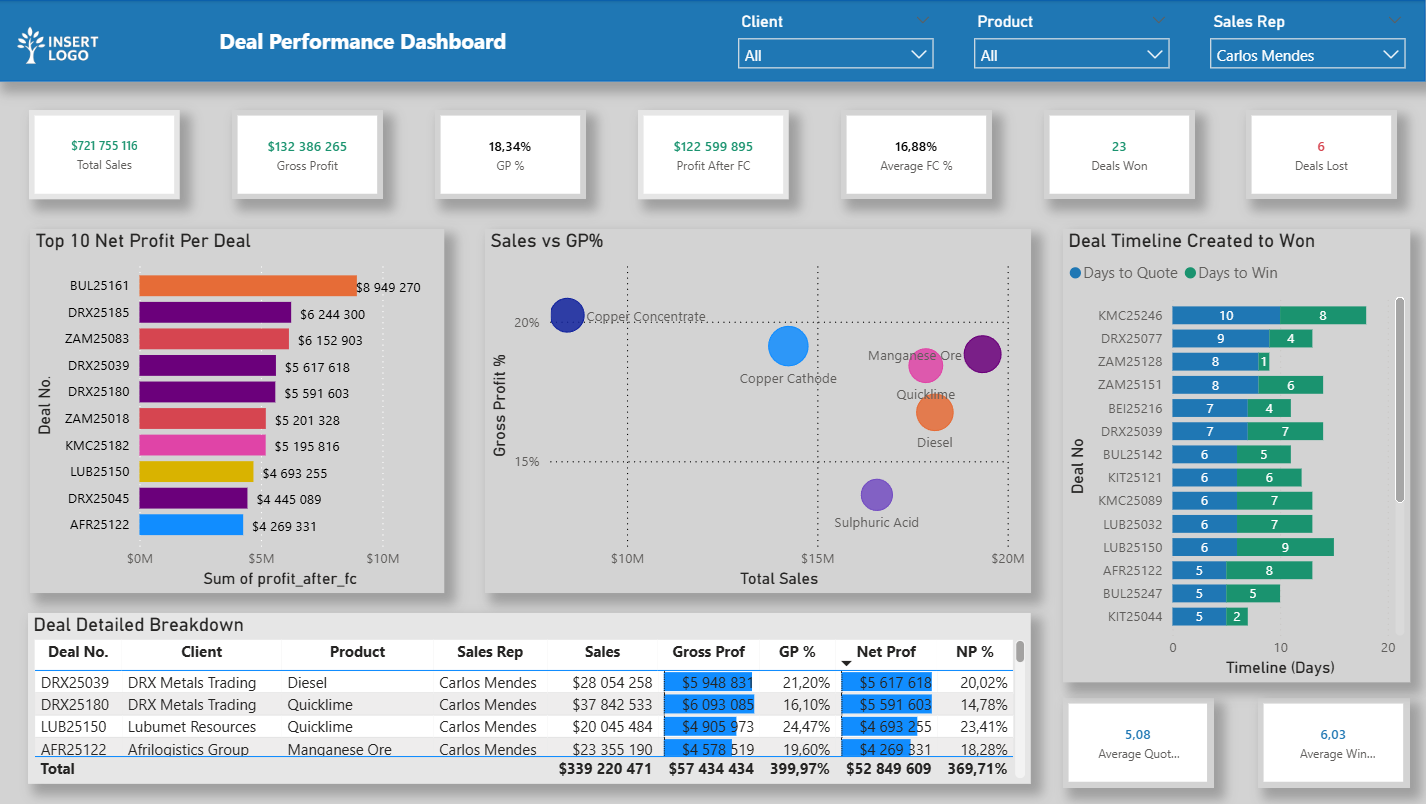

This screenshot's page, from the dashboard's own definition file:
{"tool":"powerbi","page":{"name":"Deal Performance","canvas":[1280,720],"ordinal":1},"visuals":[{"type":"cardVisual","fields":{"Data":["Measure_Tbl.GP %"]},"box":[393,98.5,135,80.1],"z":0},{"type":"cardVisual","fields":{"Data":["Measure_Tbl.Deals Won"]},"box":[938.1,98.5,135,80.1],"z":1000},{"type":"cardVisual","fields":{"Data":["Measure_Tbl.Total Gross Profit"]},"box":[211.3,98.5,135,80.1],"z":2000},{"type":"slicer","fields":{"Values":["client.client_name"]},"box":[654.6,5.8,194.5,61.3],"z":3000,"group":"g1"},{"type":"cardVisual","fields":{"Data":["Measure_Tbl.Average PFC"]},"box":[756.4,98.5,135,80.1],"z":3000},{"type":"slicer","fields":{"Values":["product.product_name"]},"box":[866.2,5.8,194.5,61.3],"z":4000,"group":"g1"},{"type":"cardVisual","fields":{"Data":["Measure_Tbl.Total Sales"]},"box":[29.5,98.5,135.4,80.1],"z":4000},{"type":"slicer","fields":{"Values":["sales_rep.sales_rep_name"]},"box":[1077.7,5.8,194.5,61.3],"z":5000,"group":"g1"},{"type":"cardVisual","fields":{"Data":["Measure_Tbl.Total Profit After FC"]},"box":[574.7,98.5,135,80.1],"z":5000},{"type":"cardVisual","fields":{"Data":["Measure_Tbl.Deals Lost"]},"box":[1119.8,98.5,135,80.1],"z":6000},{"type":"barChart","title":"Top 10 Net Profit Per Deal","fields":{"Category":["deal.deal_no"],"Series":["client.client_name"],"Y":["Sum(deal.profit_after_fc)"]},"box":[30,205,371,326],"z":7000},{"type":"scatterChart","title":"Sales vs GP%","fields":{"X":["Avg(deal.sales_total)"],"Y":["Avg(deal.gross_profit_pct)"],"Size":["Sum(deal.profit_after_fc)"],"Series":["product.product_name"]},"box":[437.5,205,489,326],"z":8000},{"type":"barChart","title":"Deal Timeline Created to Won","fields":{"Category":["deal.deal_no"],"Y":["Measure_Tbl.Days to Quote","Measure_Tbl.Days to Win"]},"box":[955.4,204.9,310.8,406.3],"z":9000},{"type":"tableEx","title":"Deal Detailed Breakdown","fields":{"Values":["deal.deal_no","client.client_name","product.product_name","sales_rep.sales_rep_name","Sum(deal.sales_total)","Sum(deal.gross_profit)","Sum(deal.gross_profit_pct)","Sum(deal.profit_after_fc)","Sum(deal.profit_after_fc_pct)"]},"box":[29,549,898,153],"z":10000},{"type":"cardVisual","fields":{"Data":["Measure_Tbl.Average Days to Quote"]},"box":[955.4,625,134.7,80.6],"z":11000},{"type":"cardVisual","fields":{"Data":["Measure_Tbl.Average Days to Win"]},"box":[1130.4,625,135.8,80.6],"z":12000},{"type":"shape","title":"12-Week Rolling Cashflow Dashboard.","box":[0,0,1280,72.9],"z":13000},{"type":"group","id":"g1","title":"Group 1","box":[654.6,5.8,617.6,61.3],"z":14000},{"type":"image","box":[0,0,110,85],"z":15000}]}

Visuals, with their boxes in screenshot pixels (x1, y1, x2, y2), scaled from the page's 1280x720 canvas onto the 1426x804 screenshot:
cardVisual - Measure_Tbl.GP %: select_region(438, 110, 588, 199)
cardVisual - Measure_Tbl.Deals Won: select_region(1045, 110, 1196, 199)
cardVisual - Measure_Tbl.Total Gross Profit: select_region(235, 110, 386, 199)
slicer - client.client_name: select_region(729, 6, 946, 75)
cardVisual - Measure_Tbl.Average PFC: select_region(843, 110, 993, 199)
slicer - product.product_name: select_region(965, 6, 1182, 75)
cardVisual - Measure_Tbl.Total Sales: select_region(33, 110, 184, 199)
slicer - sales_rep.sales_rep_name: select_region(1201, 6, 1417, 75)
cardVisual - Measure_Tbl.Total Profit After FC: select_region(640, 110, 791, 199)
cardVisual - Measure_Tbl.Deals Lost: select_region(1248, 110, 1398, 199)
"Top 10 Net Profit Per Deal" barChart: select_region(33, 229, 447, 593)
"Sales vs GP%" scatterChart: select_region(487, 229, 1032, 593)
"Deal Timeline Created to Won" barChart: select_region(1064, 229, 1411, 683)
"Deal Detailed Breakdown" tableEx: select_region(32, 613, 1033, 784)
cardVisual - Measure_Tbl.Average Days to Quote: select_region(1064, 698, 1214, 788)
cardVisual - Measure_Tbl.Average Days to Win: select_region(1259, 698, 1411, 788)
"12-Week Rolling Cashflow Dashboard." shape: select_region(0, 0, 1425, 81)
"Group 1" group: select_region(729, 6, 1417, 75)
image: select_region(0, 0, 123, 95)
